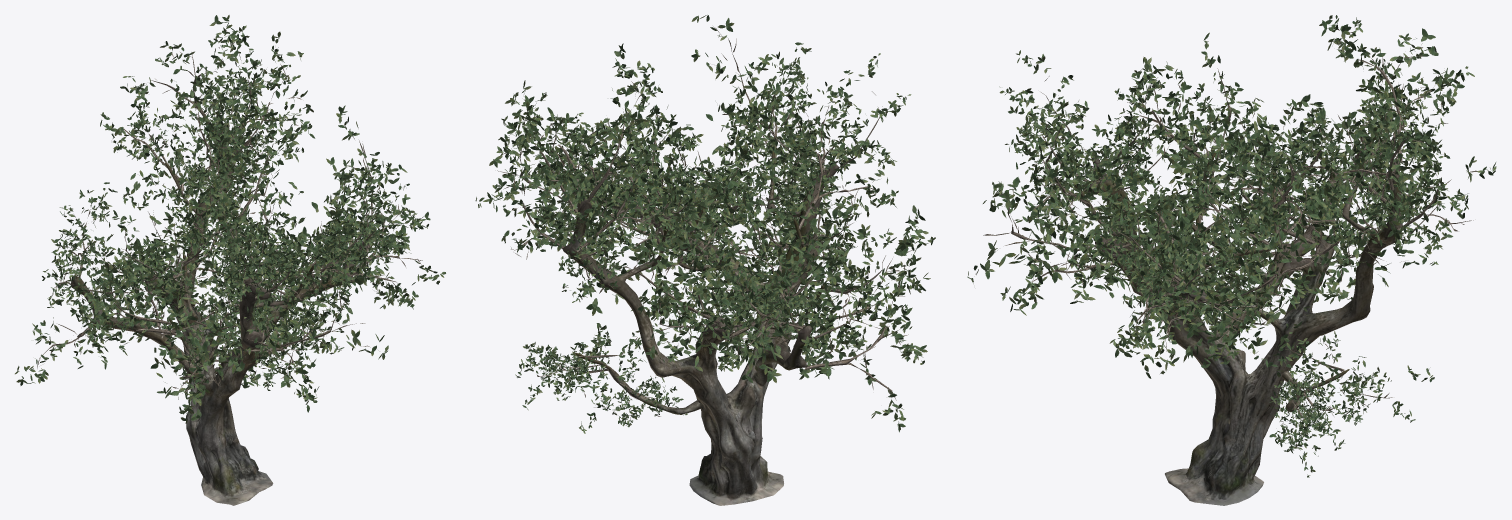
Rendered from olive_tree_tall_far.glb.
The picture shows the model from 3 angles, left to right: view 1: azimuth 30°, elevation 25°; view 2: azimuth 150°, elevation 25°; view 3: azimuth 270°, elevation 25°; orthographic projection. The views are drawn at different scales.
Visible parts, largest first — view 1: island_tree_01_mesh; view 2: island_tree_01_mesh; view 3: island_tree_01_mesh.
Boxes of the visible parts, box(x1,y1,x2,y2) form: island_tree_01_mesh: box(15, 15, 445, 505); island_tree_01_mesh: box(475, 15, 935, 505); island_tree_01_mesh: box(967, 15, 1496, 505).
Bounding box in the file's own units: 4.76 × 5.02 × 4.81.
Materials: 3 (3 with a texture image).
